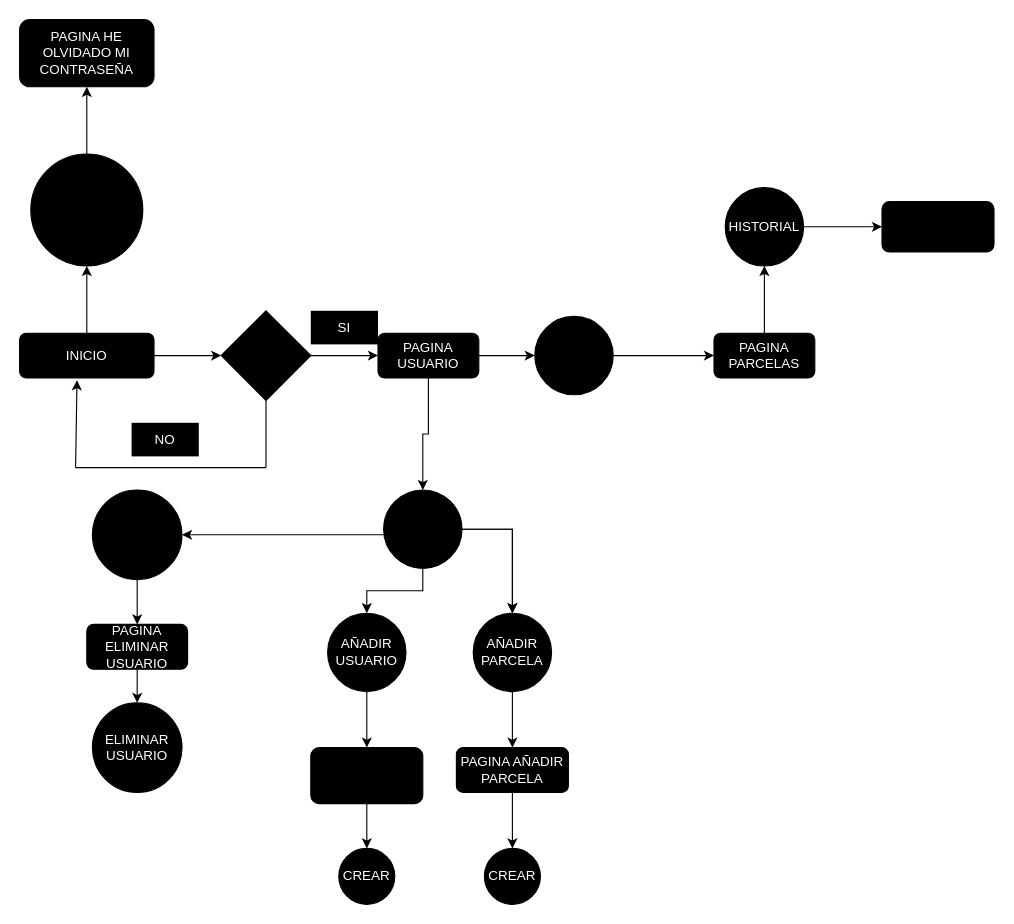
Image size: 1014x924. Some labels were removed from this diagram. The shapes that lost their labels are listed below. From the top down, each one's centre as x and y in pixels, then its label:
pixel 86 209: HE OLVIDADO MI CONTRASEÑA
pixel 937 226: PAGINA HISTORIAL
pixel 265 355: INICIAR SESIÓN
pixel 573 355: PARCELAS
pixel 136 534: ELIMINAR
pixel 422 528: GESTIONAR USUARIOS
pixel 366 775: PAGINA CREACION USUARIO
